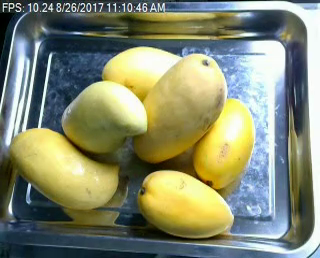Mango: (132, 52, 224, 163), (10, 128, 123, 211), (137, 169, 235, 240), (59, 79, 148, 157), (192, 97, 256, 188), (102, 40, 183, 95)
